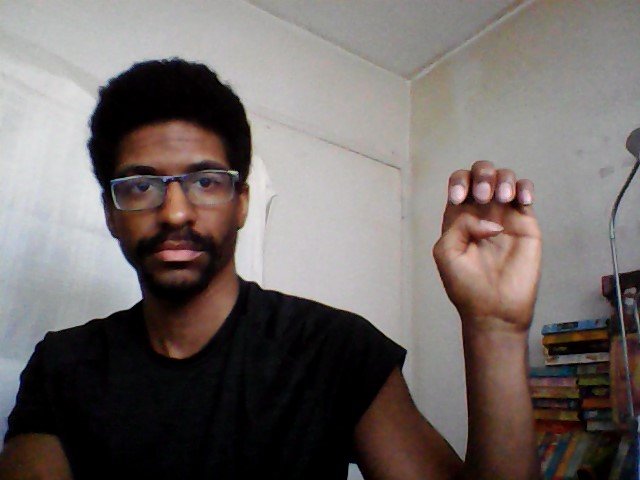e: (431, 157, 543, 325)
